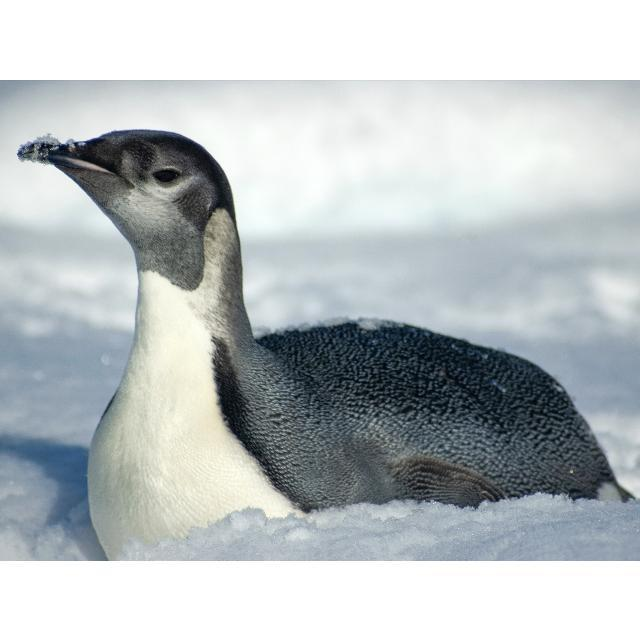penguin: (14, 128, 636, 557)
